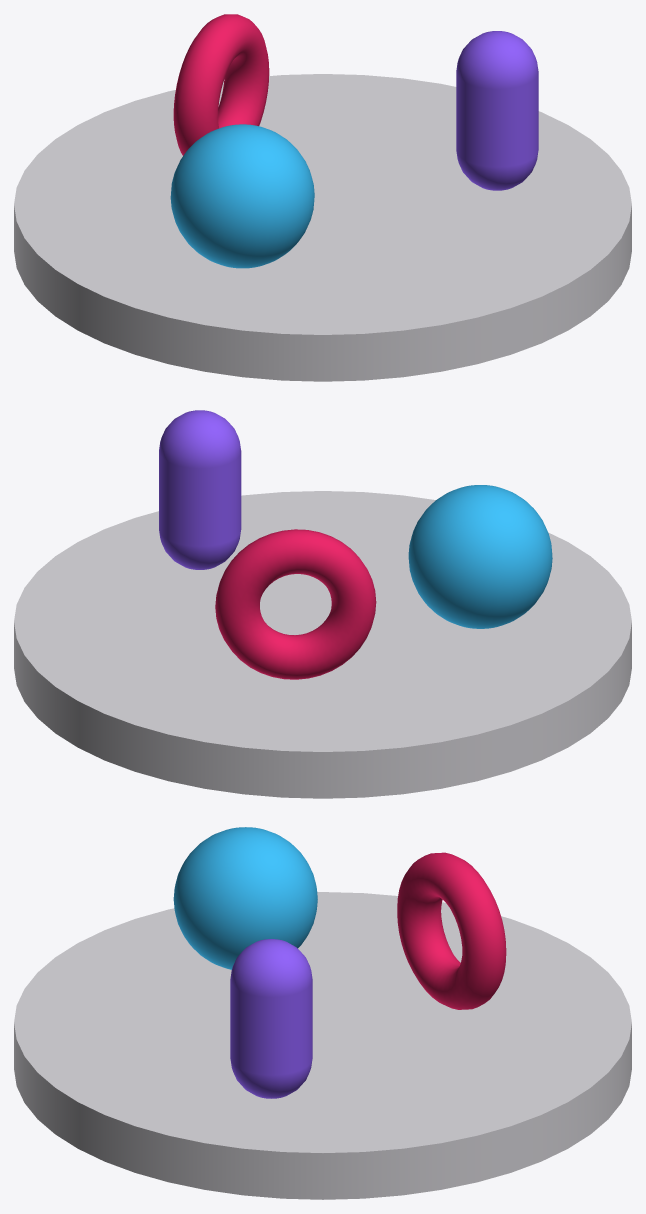
Rendered from diorama.gltf.
The picture shows the model from 3 angles, top to bottom: view 1: azimuth 30°, elevation 25°; view 2: azimuth 150°, elevation 25°; view 3: azimuth 270°, elevation 25°; orthographic projection.
Visible parts, largest first — view 1: Plinth, Ball, Pill, Ring; view 2: Plinth, Ball, Ring, Pill; view 3: Plinth, Ball, Ring, Pill.
Part boxes in pixels (x1,y1,x2,y2): Plinth: (14, 74, 631, 381); Ball: (170, 124, 314, 268); Pill: (456, 31, 538, 190); Ring: (173, 14, 269, 155); Plinth: (14, 491, 631, 798); Ball: (408, 485, 552, 628); Ring: (215, 529, 376, 679); Pill: (159, 410, 241, 569); Plinth: (14, 892, 631, 1199); Ball: (173, 827, 317, 969); Ring: (397, 852, 506, 1009); Pill: (230, 939, 312, 1098).
Bounding box in the file's own units: 3.6 × 1.28 × 3.6.
